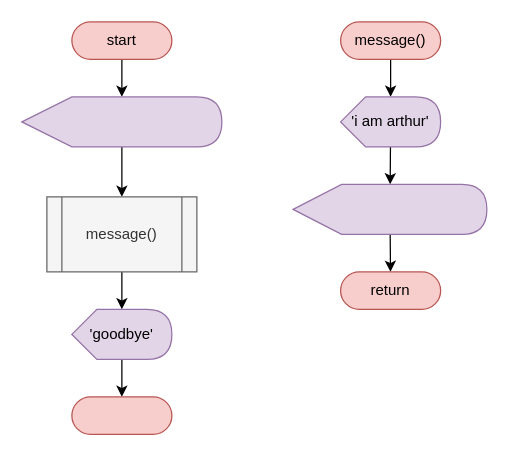
The diagram is 509 pixels wide and 456 high, and some of its shapes have lost their labels. The centre of each missing label's shape, as x and y in pixels:
'i have a message for u: the point at 121,121
'the king of the britons': the point at 389,208
stop: the point at 121,415
